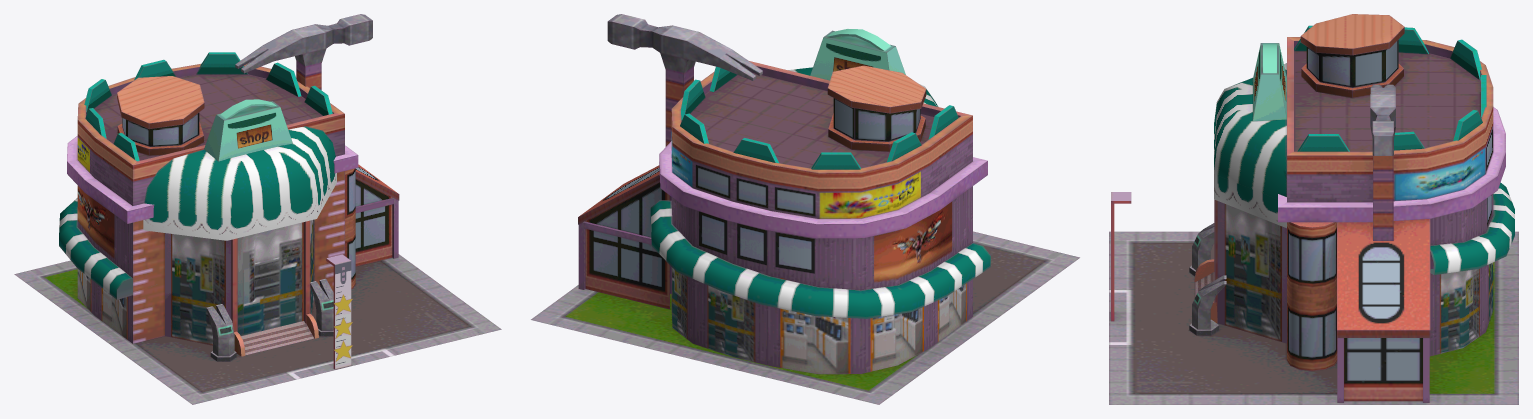
The model's file is binalidian.FBX.
3 views of the same model, side by side, from view 1: azimuth 30°, elevation 25°; view 2: azimuth 150°, elevation 25°; view 3: azimuth 270°, elevation 25° (orthographic). The views are drawn at different scales.
Parts seen in each view (by area): view 1: shangdian006; view 2: shangdian006; view 3: shangdian006.
Boxes of the visible parts, x1,y1,x2,y2 form: shangdian006: (14,14,501,404); shangdian006: (531,14,1079,404); shangdian006: (1109,14,1518,404).
Size of the model in its own units: 1342 by 949 by 1342.
Materials: 1 (1 with a texture image).
